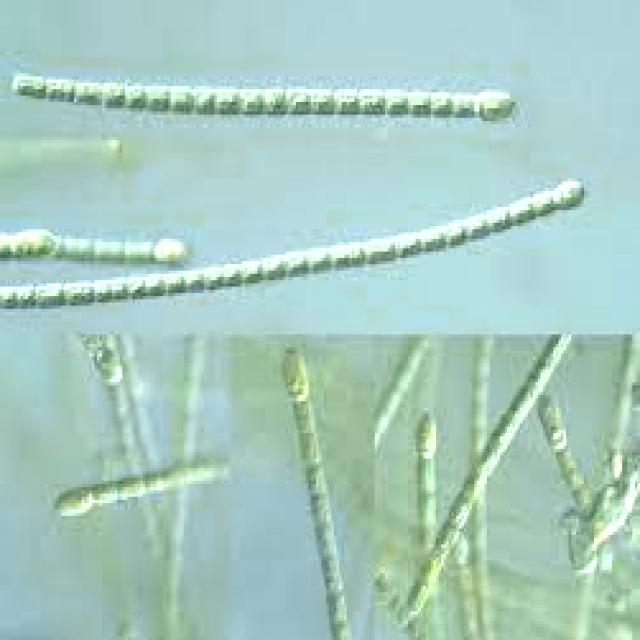Blue Green Algae: (281, 344, 311, 398), (92, 344, 125, 388), (480, 86, 520, 121), (553, 175, 589, 213), (413, 408, 441, 452), (214, 83, 245, 118), (301, 465, 334, 497), (418, 548, 449, 582), (94, 277, 130, 306), (357, 82, 388, 114), (382, 86, 410, 121), (46, 73, 76, 105), (10, 73, 46, 99), (64, 233, 97, 261), (168, 83, 194, 118), (449, 490, 474, 526), (393, 229, 423, 258), (125, 236, 155, 264), (76, 76, 102, 108), (145, 76, 171, 108), (331, 82, 357, 114), (293, 398, 319, 430), (311, 494, 337, 526), (298, 436, 326, 465), (94, 236, 122, 264), (240, 258, 268, 286), (510, 386, 533, 420), (416, 449, 436, 487), (365, 239, 395, 264), (191, 82, 214, 114), (487, 200, 510, 232), (36, 283, 64, 309), (263, 86, 288, 115), (421, 226, 448, 252), (438, 522, 462, 551), (117, 478, 148, 500), (66, 280, 92, 306), (104, 80, 128, 108), (122, 83, 146, 111), (433, 89, 454, 121), (530, 185, 554, 213), (454, 560, 474, 592), (314, 525, 336, 554), (308, 89, 332, 115), (12, 283, 36, 309), (308, 248, 332, 274), (410, 89, 431, 118), (469, 398, 490, 427), (454, 89, 477, 115), (466, 213, 489, 239), (286, 86, 306, 115), (418, 490, 436, 522), (265, 255, 288, 280), (92, 481, 115, 506), (240, 89, 262, 115), (222, 258, 242, 286), (288, 245, 309, 271), (329, 245, 352, 268), (145, 271, 166, 296), (204, 261, 222, 290), (510, 197, 530, 223), (319, 554, 339, 580), (556, 446, 574, 474), (181, 267, 199, 293), (568, 468, 586, 494), (163, 271, 184, 293), (125, 277, 145, 299), (449, 223, 469, 245), (349, 242, 367, 264)
